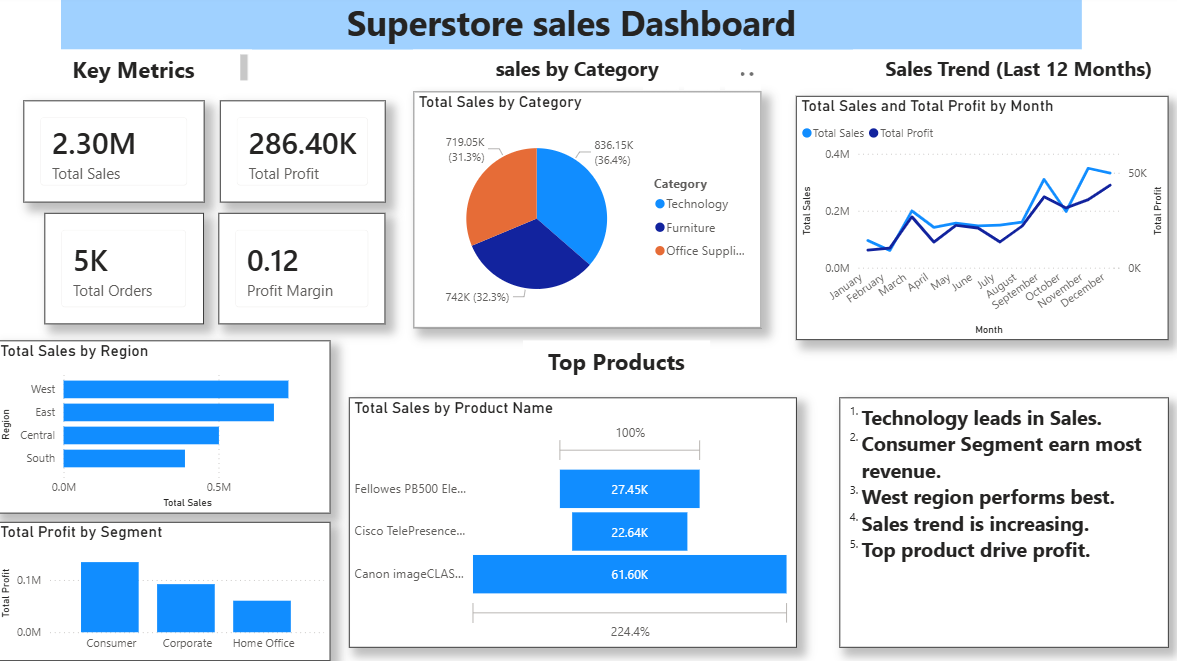

This screenshot's page, from the dashboard's own definition file:
{"tool":"powerbi","page":{"name":"Page 1","canvas":[1280,720],"ordinal":0},"visuals":[{"type":"cardVisual","fields":{"Data":["Orders.Total Sales"]},"box":[30,115,195,110],"z":0},{"type":"cardVisual","fields":{"Data":["Orders.Total Profit"]},"box":[243.3,115,178.3,110],"z":1000},{"type":"cardVisual","fields":{"Data":["Orders.Total Orders"]},"box":[53.3,236.7,171.7,120],"z":2000},{"type":"cardVisual","fields":{"Data":["Orders.Profit Margin"]},"box":[241.7,236.7,180,120],"z":3000},{"type":"pieChart","fields":{"Category":["Orders.Category"],"Y":["Orders.Total Sales"]},"box":[451.7,105,375,255],"z":4000},{"type":"lineChart","fields":{"Category":["Orders.Order Date.Variation.Date Hierarchy.Month"],"Y":["Orders.Total Sales"],"Y2":["Orders.Total Profit"]},"box":[865,110,401.7,263.3],"z":5000},{"type":"funnel","fields":{"Category":["Orders.Product Name"],"Y":["Orders.Total Sales"]},"box":[381.7,435,483.3,270],"z":6000},{"type":"barChart","fields":{"Category":["Orders.Region"],"Y":["Orders.Total Sales"]},"box":[0,373.3,361.7,186.7],"z":7000},{"type":"clusteredColumnChart","fields":{"Category":["Orders.Segment"],"Y":["Orders.Total Profit"]},"box":[0,570,361.7,150],"z":8000},{"type":"textbox","box":[71.7,0,1101.7,60],"z":10000},{"type":"textbox","box":[30,60,246.7,40],"z":10001},{"type":"textbox","box":[451.7,60,353.3,40],"z":10002},{"type":"textbox","box":[926.7,60,340,45],"z":10003},{"type":"textbox","box":[570,373.3,201.7,46.7],"z":10005},{"type":"textbox","box":[911.7,435,355,270],"z":10006}]}

Visuals, with their boxes in screenshot pixels (x1, y1, x2, y2), scaled from the page's 1280x720 canvas onto the 1177x661 screenshot:
cardVisual - Orders.Total Sales: box=[28, 106, 207, 207]
cardVisual - Orders.Total Profit: box=[224, 106, 388, 207]
cardVisual - Orders.Total Orders: box=[49, 217, 207, 327]
cardVisual - Orders.Profit Margin: box=[222, 217, 388, 327]
pieChart - Orders.Category x Orders.Total Sales: box=[415, 96, 760, 330]
lineChart - Orders.Order Date.Variation.Date Hierarchy.Month x Orders.Total Sales: box=[795, 101, 1165, 343]
funnel - Orders.Product Name x Orders.Total Sales: box=[351, 399, 795, 647]
barChart - Orders.Region x Orders.Total Sales: box=[0, 343, 333, 514]
clusteredColumnChart - Orders.Segment x Orders.Total Profit: box=[0, 523, 333, 660]
textbox: box=[66, 0, 1079, 55]
textbox: box=[28, 55, 254, 92]
textbox: box=[415, 55, 740, 92]
textbox: box=[852, 55, 1165, 96]
textbox: box=[524, 343, 710, 386]
textbox: box=[838, 399, 1165, 647]
